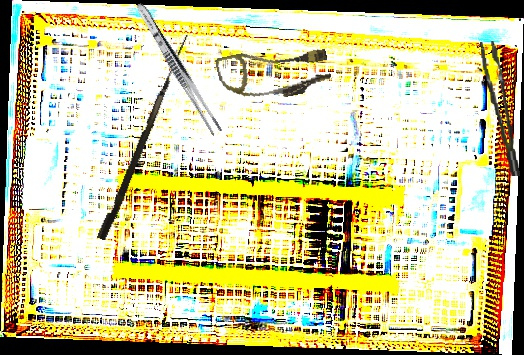Cannula: (214, 36, 334, 110)
Dressing Forceps: (132, 0, 225, 137)
Hook Surgical: (96, 31, 189, 242)
Tissue Forceps: (480, 40, 520, 178)
